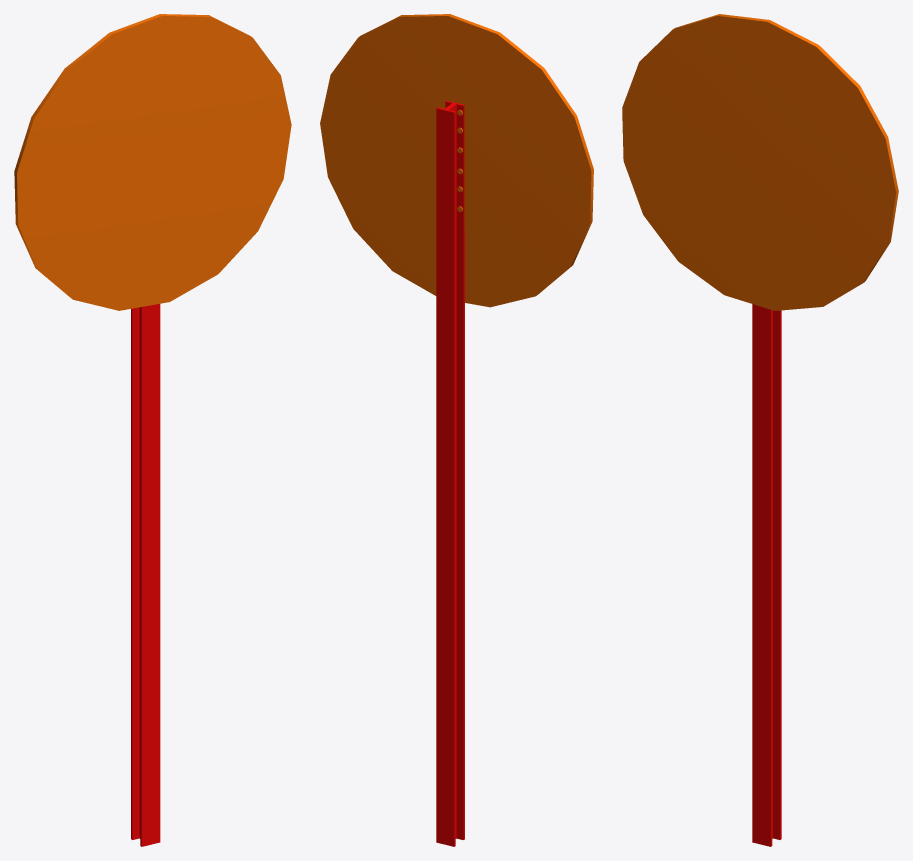
Rendered from DoNotEnterSign.fbx.
The picture shows the model from 3 angles, left to right: view 1: azimuth 30°, elevation 25°; view 2: azimuth 150°, elevation 25°; view 3: azimuth 330°, elevation 25°; orthographic projection.
Visible parts, largest first — view 1: Oil_Tank, Cube; view 2: Oil_Tank, Cube; view 3: Oil_Tank, Cube.
Part boxes in pixels (x1,y1,x2,y2): Oil_Tank: [14, 14, 291, 310]; Cube: [131, 304, 160, 846]; Oil_Tank: [320, 14, 593, 307]; Cube: [436, 100, 464, 846]; Oil_Tank: [622, 14, 898, 310]; Cube: [752, 304, 781, 846].
Size of the model in its own units: 94.86 by 273 by 8.56.
